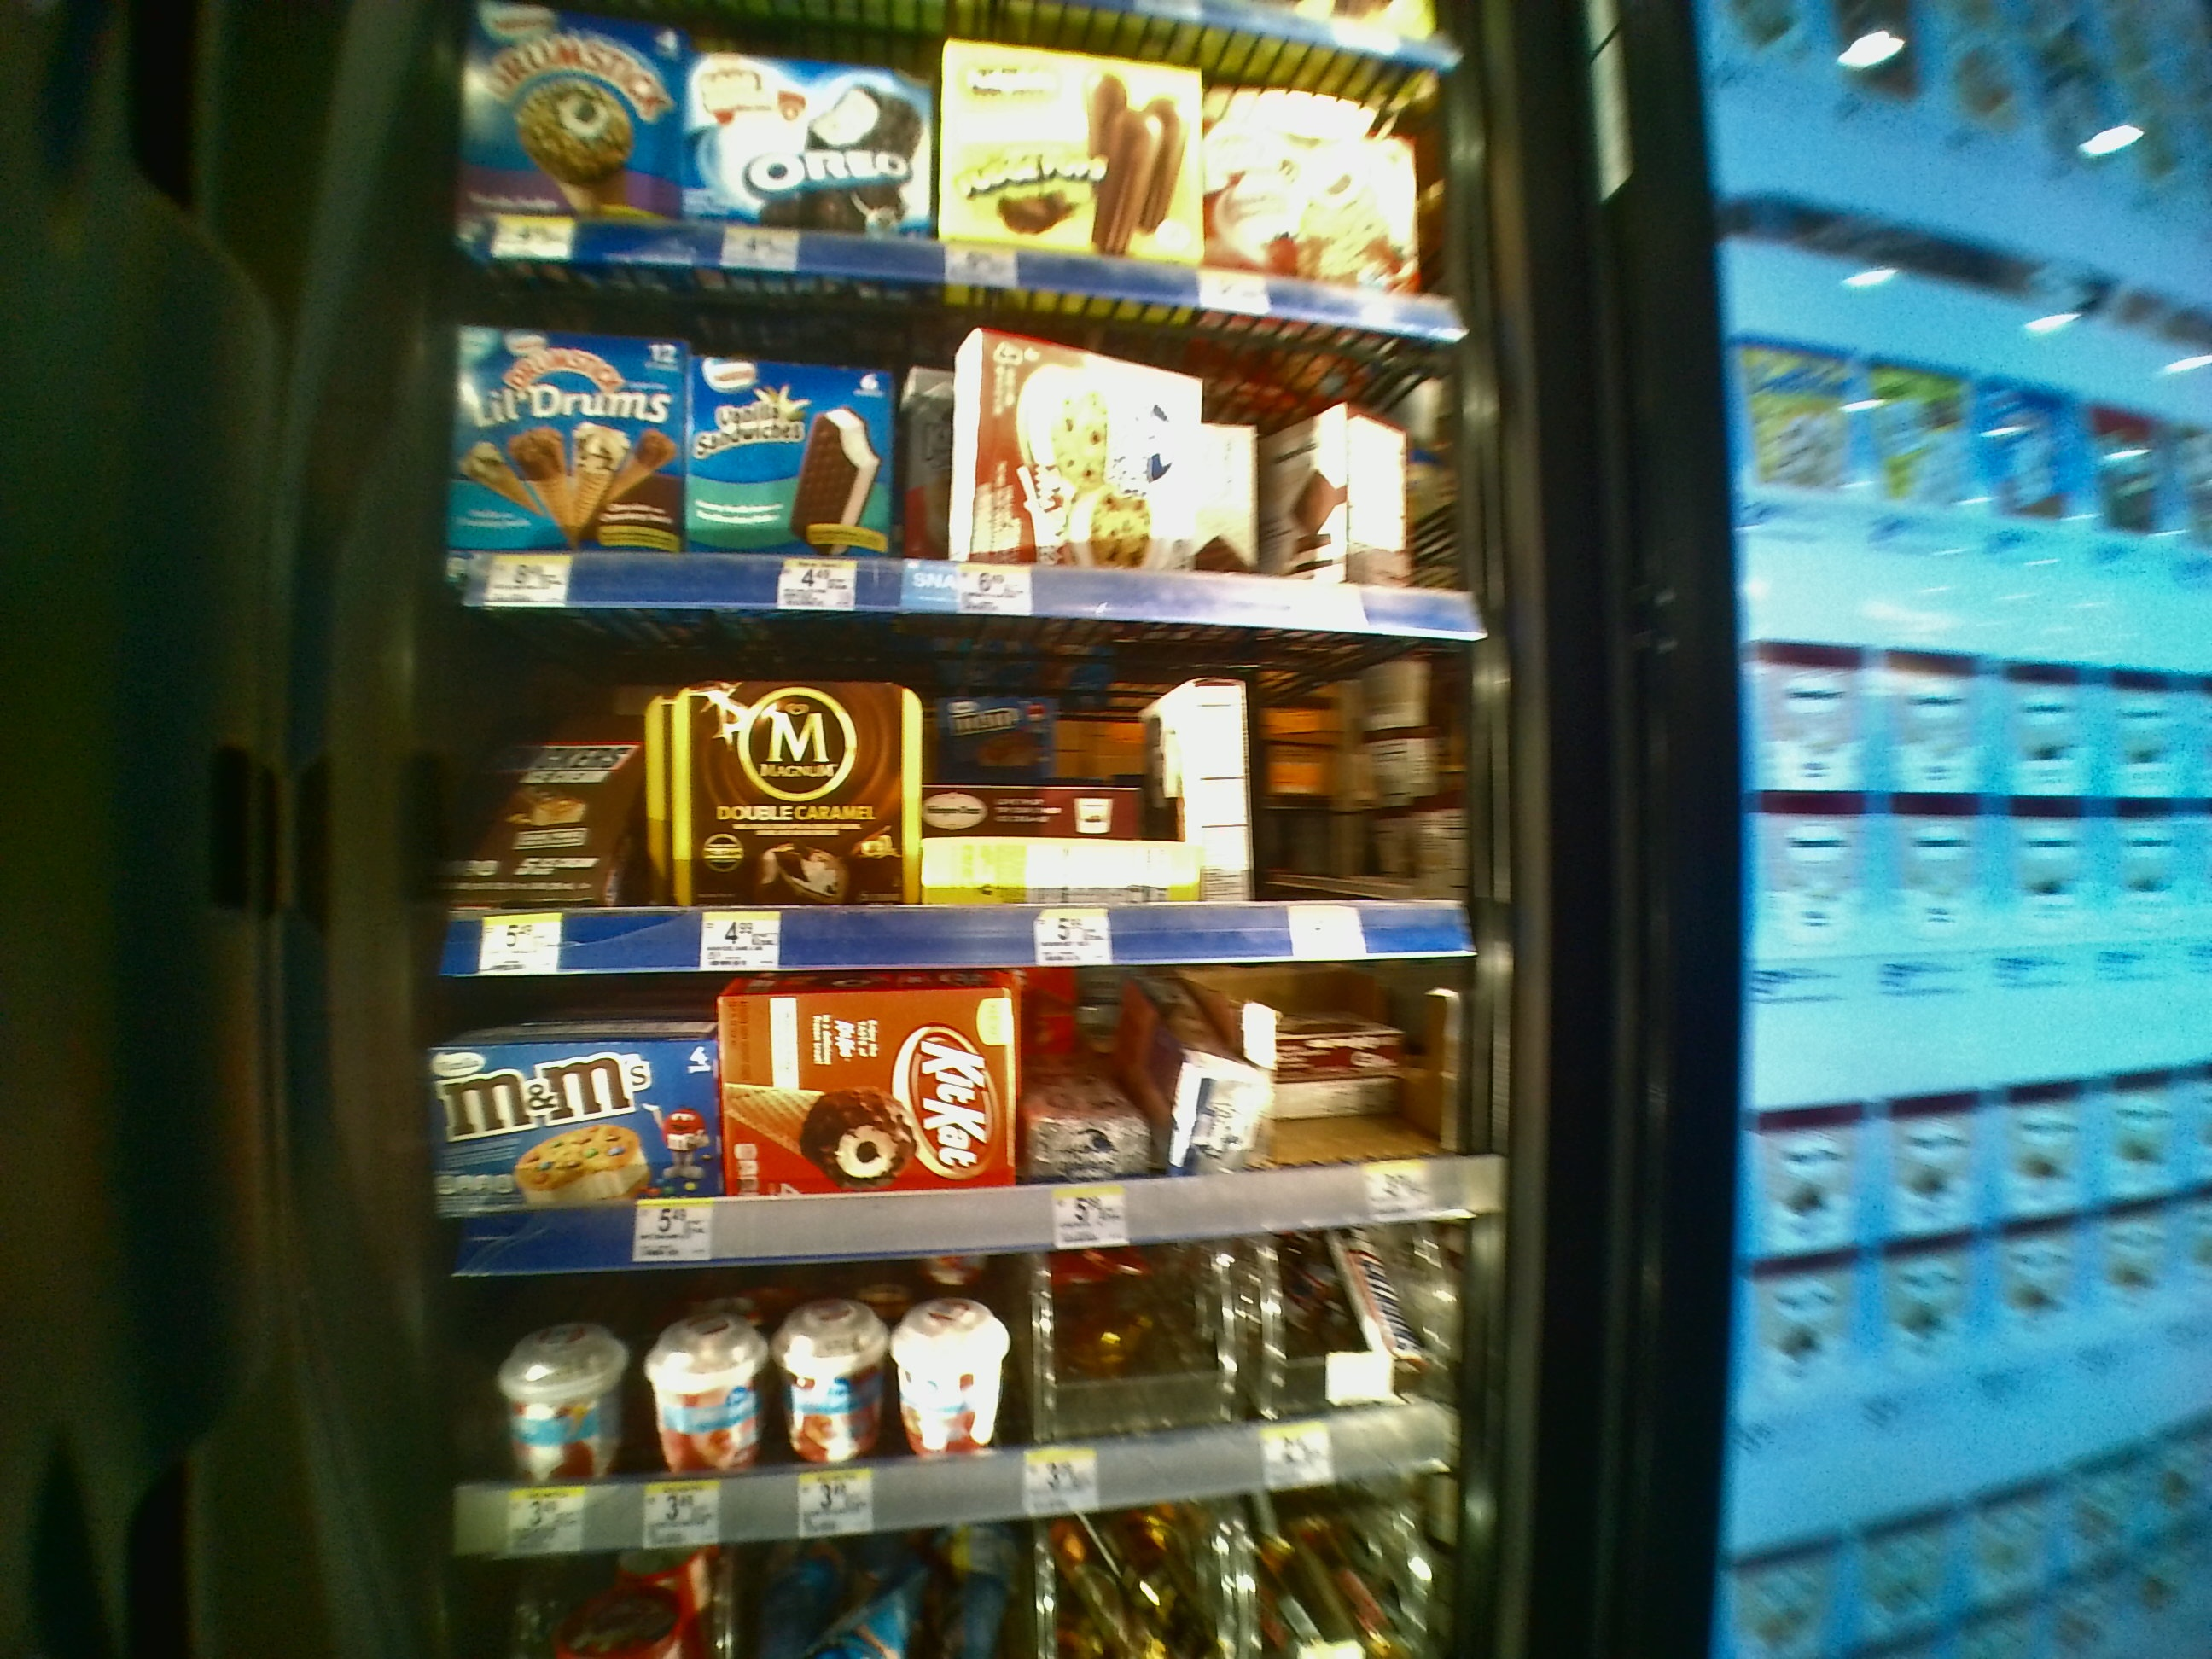shelf: (425, 622, 1489, 974), (434, 267, 1491, 606), (435, 990, 1498, 1281)
